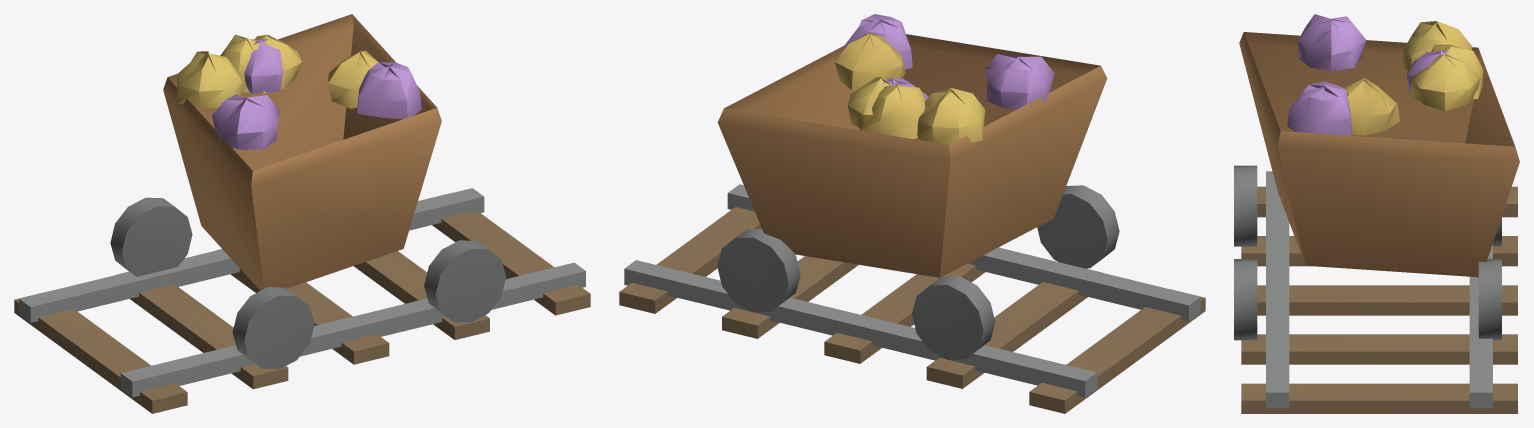
File: cen_valak_vagonete_0.glb
The picture shows the model from 3 angles, left to right: view 1: azimuth 30°, elevation 25°; view 2: azimuth 150°, elevation 25°; view 3: azimuth 270°, elevation 25°; orthographic projection.
Parts seen in each view (by area): view 1: vagonete; view 2: vagonete; view 3: vagonete.
Boxes of the visible parts, x1,y1,x2,y2 form: vagonete: (14, 14, 590, 413); vagonete: (619, 14, 1205, 413); vagonete: (1234, 14, 1519, 413).
Size of the model in its own units: 1.8 by 0.963 by 0.9822.
